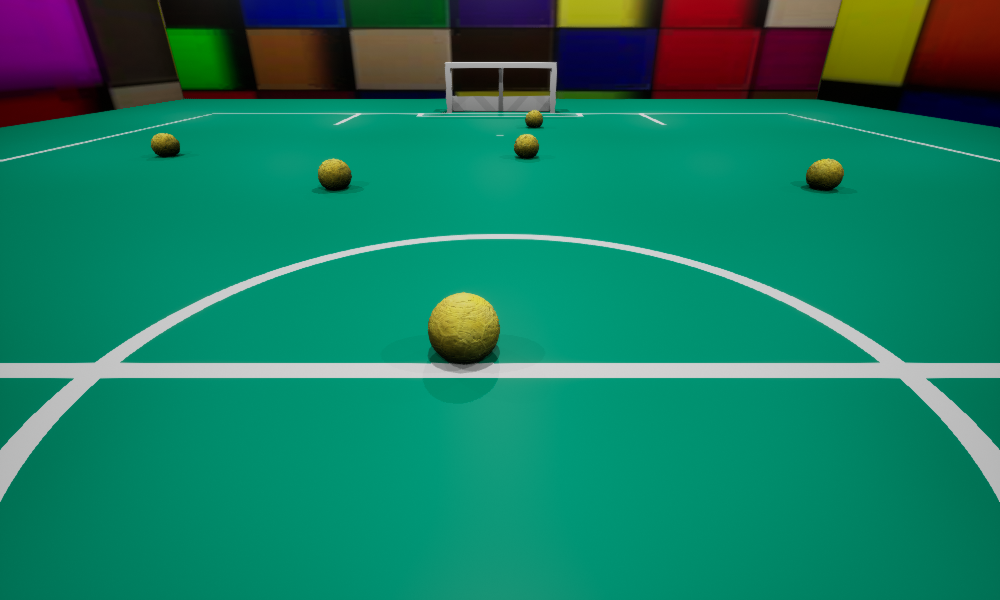b: (428, 292, 499, 363), (806, 158, 843, 189), (318, 158, 351, 189), (151, 133, 179, 156), (514, 134, 538, 157), (525, 110, 542, 127)
g: (445, 62, 556, 112)
